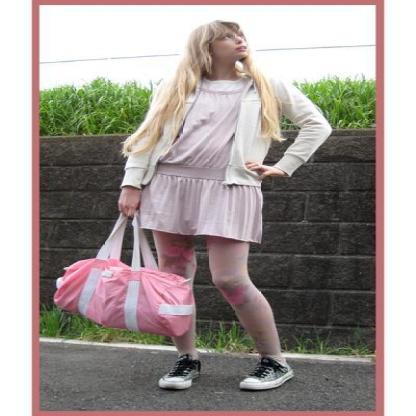bag: (54, 213, 196, 335)
dress: (137, 80, 261, 240)
jacket: (119, 87, 330, 206)
shoe: (162, 341, 300, 390)
